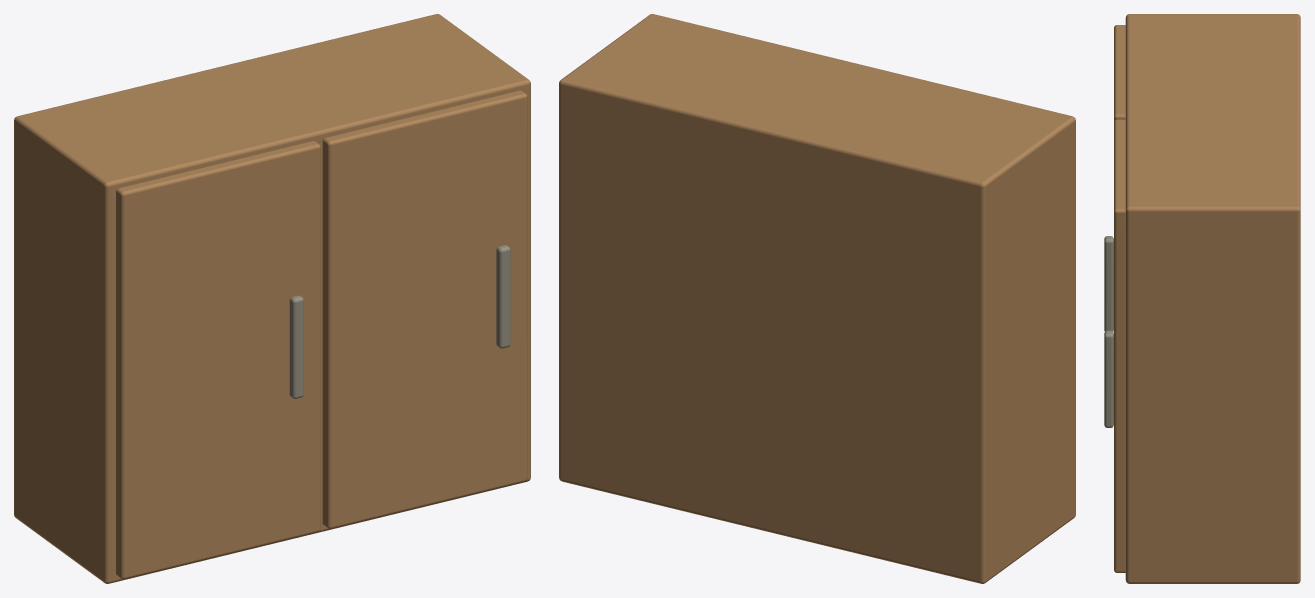
File: kitchenWallCabinet.glb
The picture shows the model from 3 angles, left to right: view 1: azimuth 30°, elevation 25°; view 2: azimuth 150°, elevation 25°; view 3: azimuth 270°, elevation 25°; orthographic projection. The views are drawn at different scales.
Visible parts, largest first — view 1: kitchenWallCabinet-part-1, kitchenWallCabinet-part-4, kitchenWallCabinet-part-2, kitchenWallCabinet-part-5, kitchenWallCabinet-part-3; view 2: kitchenWallCabinet-part-1; view 3: kitchenWallCabinet-part-1, kitchenWallCabinet-part-4, kitchenWallCabinet-part-2, kitchenWallCabinet-part-5, kitchenWallCabinet-part-3.
Part boxes in pixels (x1,y1,x2,y2): kitchenWallCabinet-part-1: [14, 14, 530, 583]; kitchenWallCabinet-part-4: [322, 90, 527, 528]; kitchenWallCabinet-part-2: [116, 141, 320, 579]; kitchenWallCabinet-part-5: [496, 245, 510, 348]; kitchenWallCabinet-part-3: [289, 295, 303, 398]; kitchenWallCabinet-part-1: [559, 14, 1075, 583]; kitchenWallCabinet-part-1: [1125, 14, 1300, 583]; kitchenWallCabinet-part-4: [1114, 119, 1125, 572]; kitchenWallCabinet-part-2: [1114, 25, 1125, 121]; kitchenWallCabinet-part-5: [1104, 330, 1113, 427]; kitchenWallCabinet-part-3: [1104, 236, 1113, 331].
Bounding box in the file's own units: 0.8 × 0.72 × 0.34.
